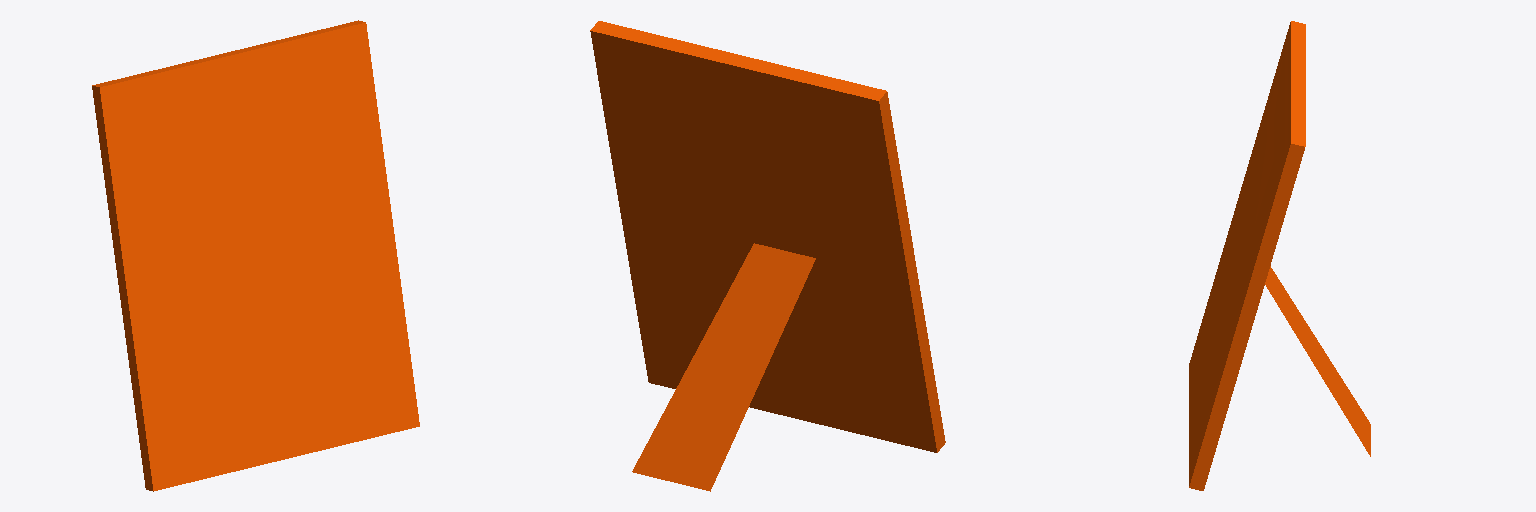
robot.urdf — PictureFrame_c5ae5f33747b0810e2b24d5cb1e4e616:
<?xml version="1.0" ?>
<robot name="PictureFrame_c5ae5f33747b0810e2b24d5cb1e4e616">
   <material name="obj_color">
      <color rgba="1.0 0.423529411765 0.0392156862745 1.0"/>
   </material>
   <link name="top">
      <inertial>
         <origin rpy="4.326613568262357e-05 7.461233243361126e-05 0.000101511414311518" xyz="0.001153537581294647 0.005414386026773222 -0.006458677867372123"/>
         <mass value="0.1183399832586471"/>
         <inertia ixx="7.459430418301955e-05" ixy="-1.076174715216374e-06" ixz="1.678553225023582e-06" iyy="0.0001007407291769085" iyz="-6.392966435421884e-06" izz="4.405484906782477e-05"/>
      </inertial>
      <visual>
         <origin rpy="0 0 0" xyz="0 0 0"/>
         <geometry>
            <mesh filename="top_watertight_tiny.stl" scale="1 1 1"/>
         </geometry>
         <material name="obj_color"/>
      </visual>
      <collision>
         <origin rpy="0 0 0" xyz="0 0 0"/>
         <geometry>
            <mesh filename="top_watertight_tiny.obj" scale="1 1 1"/>
         </geometry>
      </collision>
   </link>
   <link name="bottom">
      <inertial>
         <origin rpy="1.633333333199431e-08 1.633333333199431e-08 1.633333333362855e-08" xyz="0.3464080000000008 0.3464080000000008 0.3464080000000008"/>
         <mass value="0.0009800000000000017"/>
         <inertia ixx="1.633333333253906e-08" ixy="5.447480642029219e-19" ixz="5.447480642029219e-19" iyy="1.633333333253906e-08" iyz="5.447480642029219e-19" izz="1.633333333253906e-08"/>
      </inertial>
      <visual>
         <origin rpy="0 0 0" xyz="0 0 0"/>
         <geometry>
            <mesh filename="bottom_watertight_tiny.stl" scale="1 1 1"/>
         </geometry>
         <material name="obj_color"/>
      </visual>
   </link>
   <joint name="rotation" type="revolute">
      <origin xyz="0 0 0"/>
      <axis xyz="0 0 -1"/>
      <parent link="bottom"/>
      <child link="top"/>
      <dynamics damping="1.0" friction="1.0"/>
      <limit effort="0.1" velocity="0.1" lower="0" upper="0.001"/>
   </joint>
</robot>

--- Render facts (derived) ---
3 views of the same robot in one strip: view 1: azimuth 30°, elevation 25°; view 2: azimuth 150°, elevation 25°; view 3: azimuth 270°, elevation 25° (orthographic).
Robot: PictureFrame_c5ae5f33747b0810e2b24d5cb1e4e616 — 2 links, 1 joints (1 revolute); root link bottom; default pose: every joint at zero.
Links seen in each view (by area): view 1: top; view 2: top; view 3: top.
Boxes of the visible links, x1,y1,x2,y2 form: top: (92,20,419,491); top: (590,21,945,491); top: (1189,21,1370,490).
Size in the robot's own frame: 0.0698 by 0.0437 by 0.0921 metres.
Meshes: 2 distinct files referenced, 1 mesh visuals loaded (1 binary STL); not drawn: 1 (reference not matched to a file when rendering).
